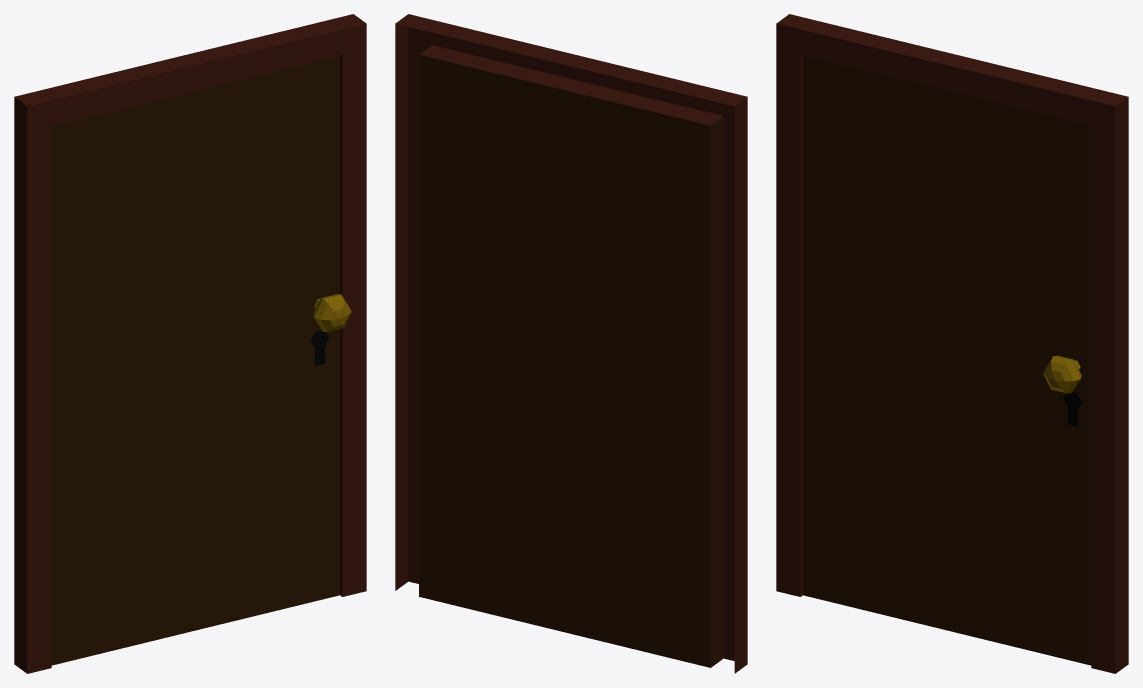
File: Door.fbx
3 views of the same model, side by side, from view 1: azimuth 30°, elevation 25°; view 2: azimuth 150°, elevation 25°; view 3: azimuth 330°, elevation 25° (orthographic).
Visible parts, largest first — view 1: door, pen; view 2: door; view 3: door, pen.
Boxes of the visible parts, left/top/right/bottom form: door: left=14, top=14, right=366, bottom=673; pen: left=313, top=294, right=351, bottom=331; door: left=395, top=14, right=747, bottom=673; door: left=776, top=14, right=1128, bottom=673; pen: left=1043, top=355, right=1081, bottom=393.
Bounding box in the file's own units: 9.08 × 14.52 × 1.38.
